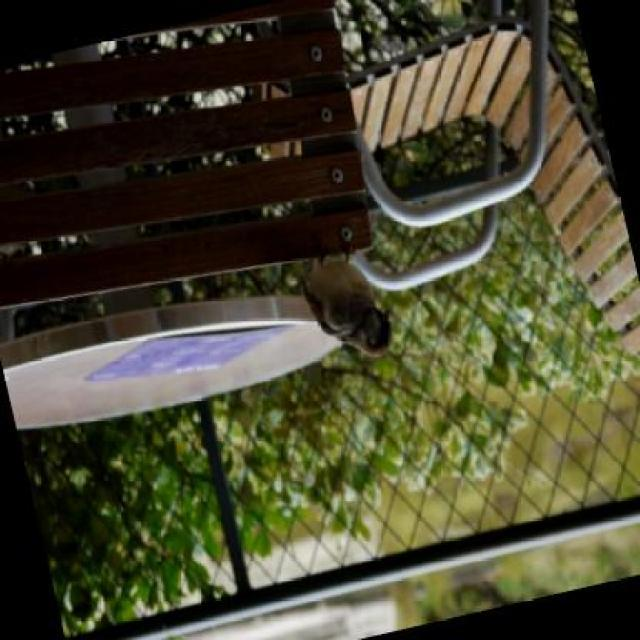Bird: (293, 239, 424, 373)
